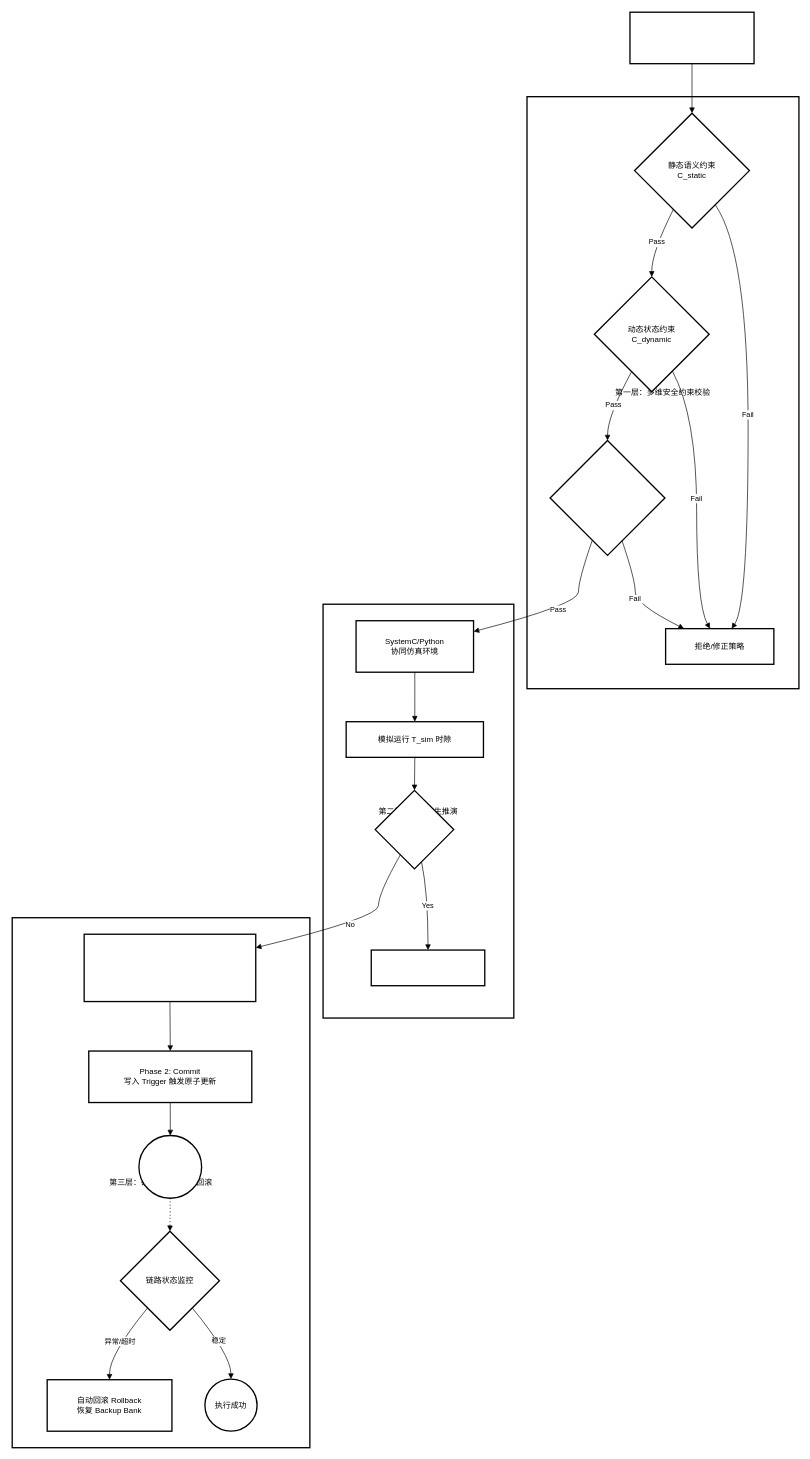
This 810x1459 diagram has some shape labels left out. The centre of each missing label's shape, as x and y in pixels:
"KPI 恶化?" goes at [414,829].
"LLM 生成修复策略 A=addr, val" goes at [691,37].
"Phase 1: Prepare 写入影子寄存器 Shadow Bank" goes at [169,967].
"性能边界约束 C_perf" goes at [607,498].
"拦截高风险操作" goes at [427,967].
"硬件看门狗 T_guard" goes at [170,1167].
